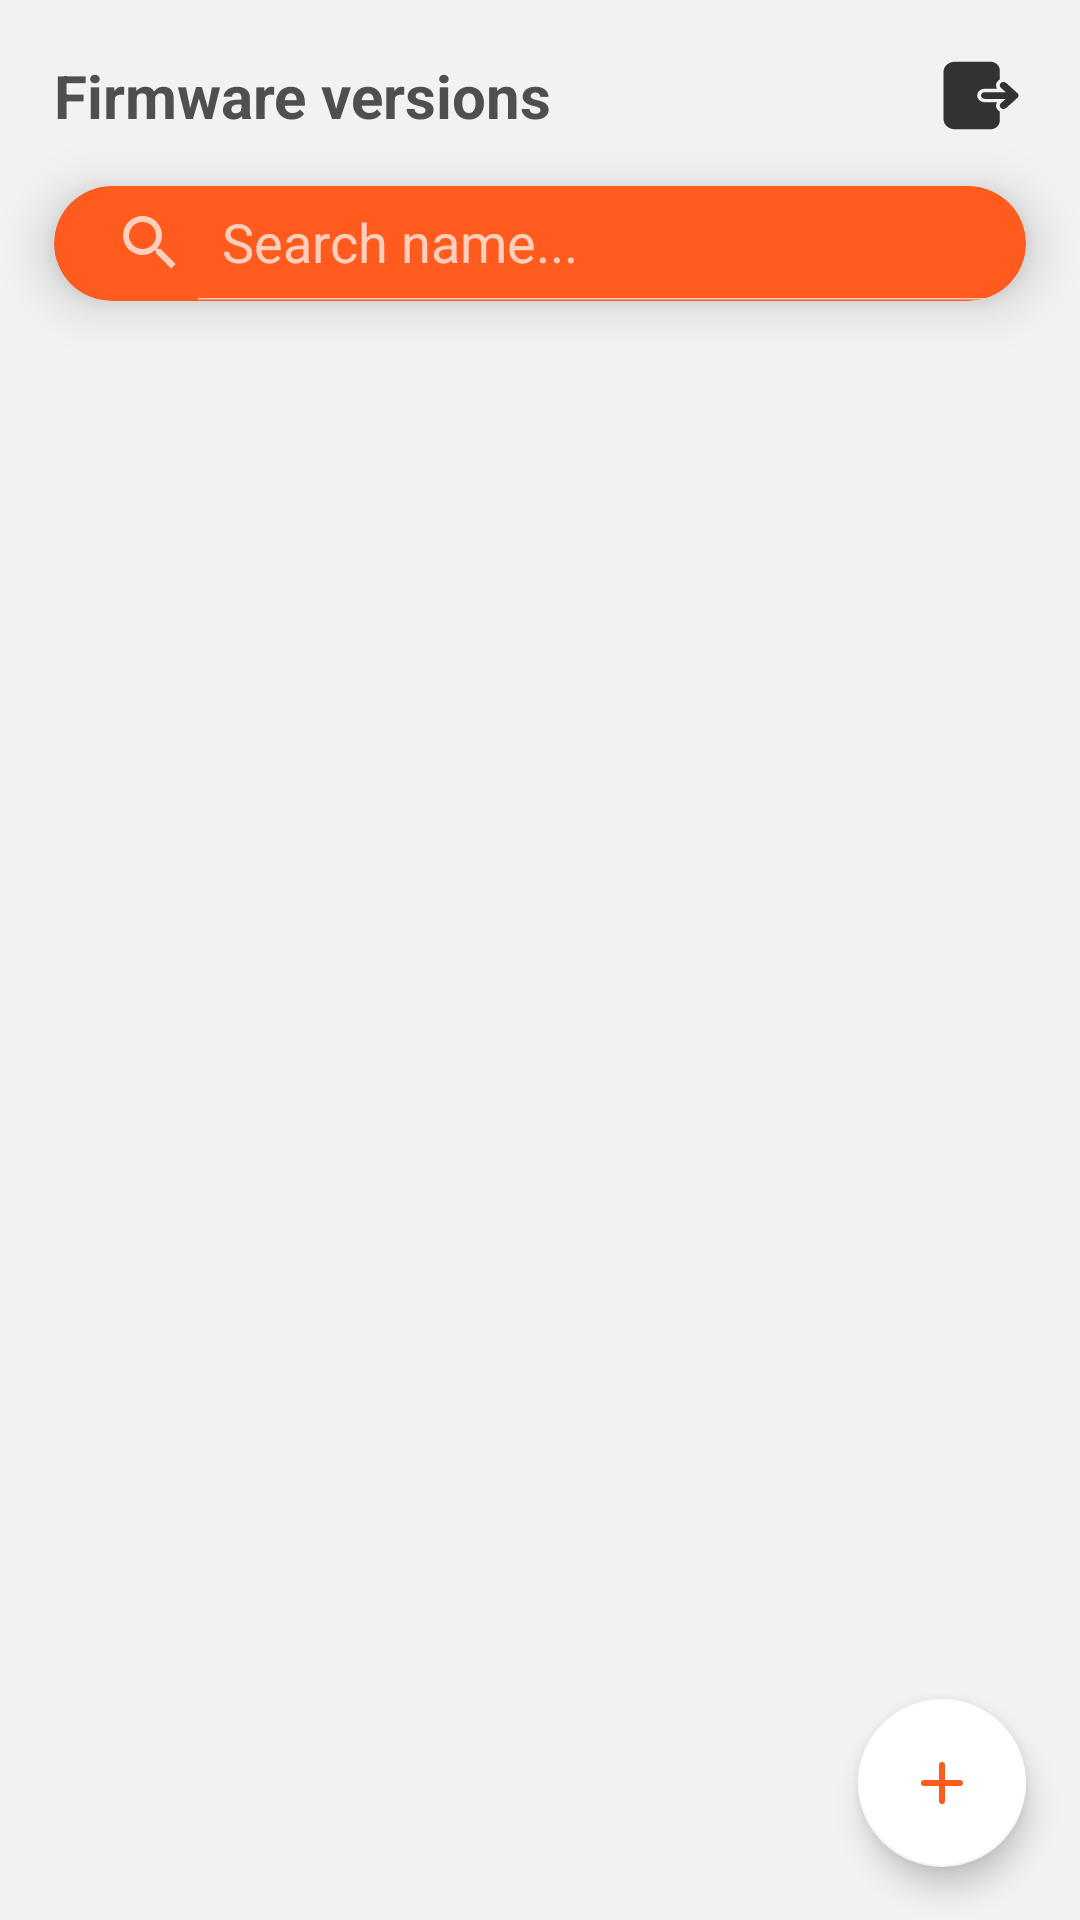

Locate icon controls on the screen. Image size 1080w x 1920h, boxes as (x1, y1, x2, y2).
add: (858, 1699, 1026, 1867)
